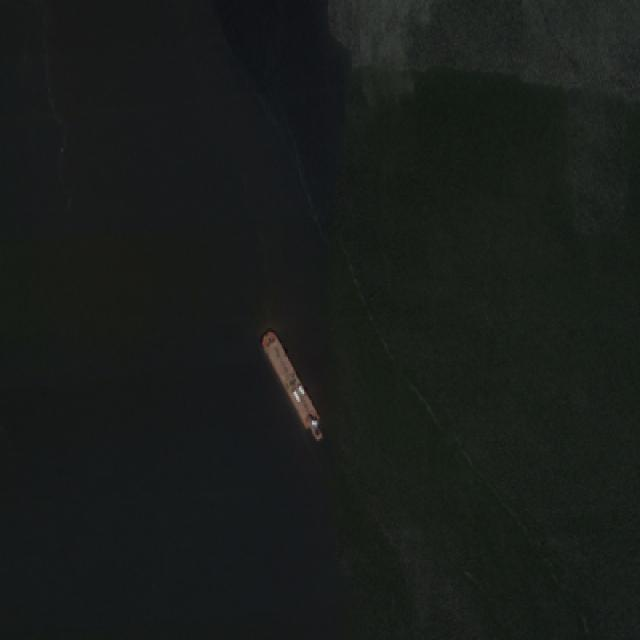boat: (261, 326, 323, 443)
